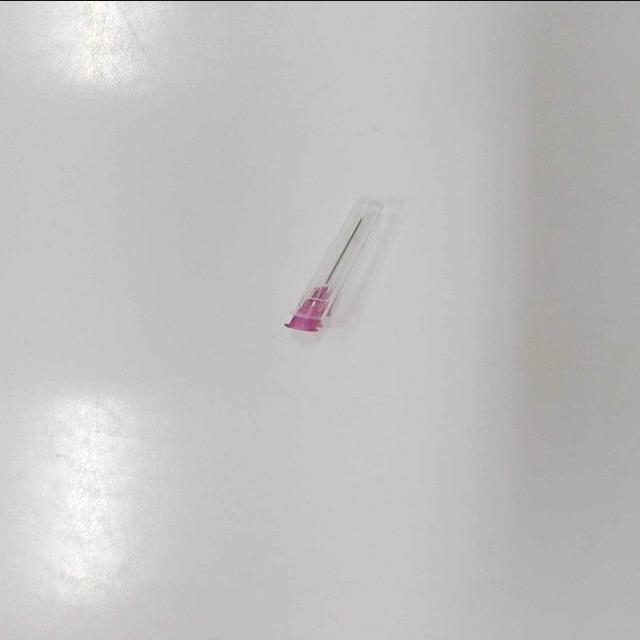Sharps: (282, 195, 384, 332)
